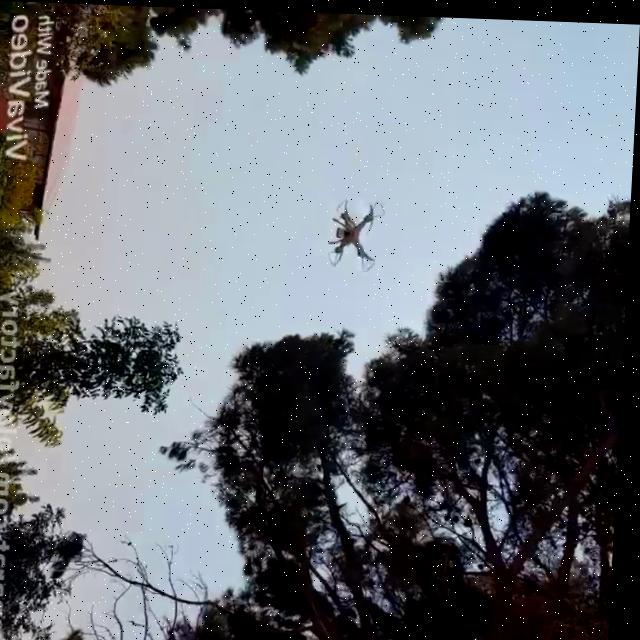drone: (326, 193, 392, 270)
